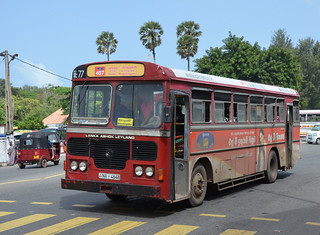bus: (60, 60, 302, 208)
threewheel: (18, 129, 60, 167)
